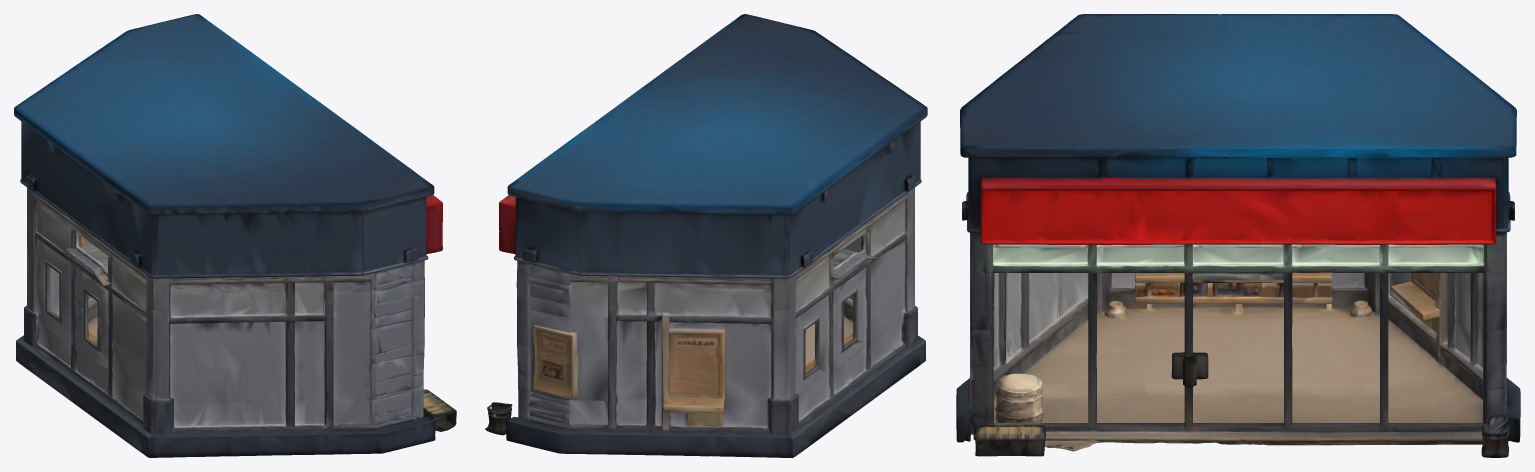
The model's file is store.opt.glb.
3 views of the same model, side by side, from view 1: azimuth 30°, elevation 25°; view 2: azimuth 150°, elevation 25°; view 3: azimuth 270°, elevation 25° (orthographic). The views are drawn at different scales.
Visible parts, largest first — view 1: tripo_node_761c7657-562b-4b86-bd91-db2d6c1cf691; view 2: tripo_node_761c7657-562b-4b86-bd91-db2d6c1cf691; view 3: tripo_node_761c7657-562b-4b86-bd91-db2d6c1cf691.
Part boxes in pixels (x1,y1,x2,y2): tripo_node_761c7657-562b-4b86-bd91-db2d6c1cf691: (14, 14, 456, 457); tripo_node_761c7657-562b-4b86-bd91-db2d6c1cf691: (485, 14, 927, 457); tripo_node_761c7657-562b-4b86-bd91-db2d6c1cf691: (956, 14, 1520, 457).
Bounding box in the file's own units: 0.6197 × 0.569 × 0.9803.
1 material, 1 textured.
